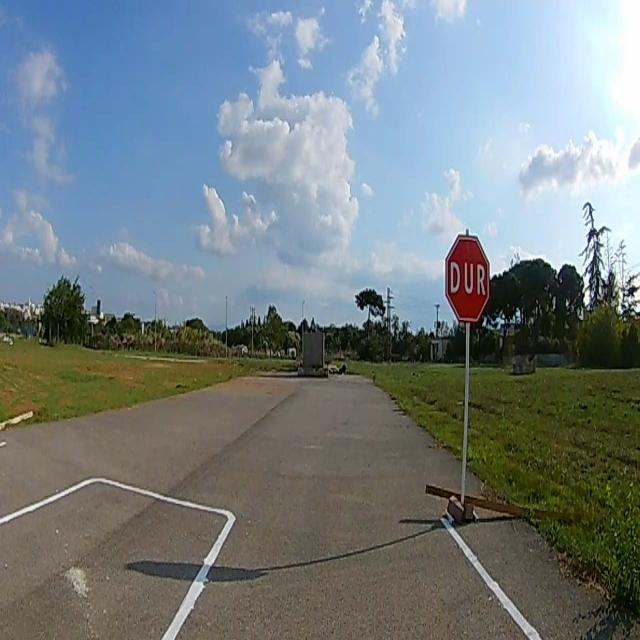dur: (446, 234, 490, 324)
